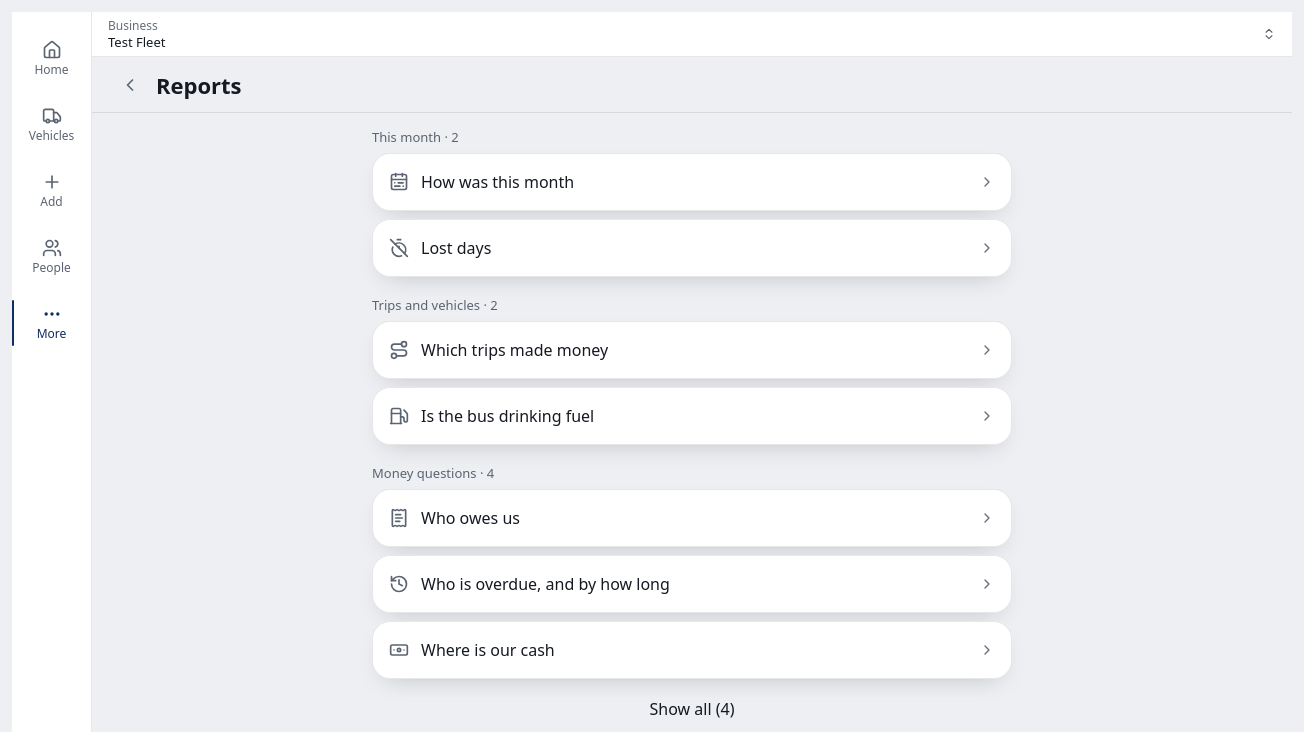
the catalogue renders the nine phase-1 cards, owner-only ones filtered for a plain manager
Expected: the text "How was this month" is shown, [421,170,574,194]
Click the button named "Back". click: (130, 84)
box: [108,62,152,106]
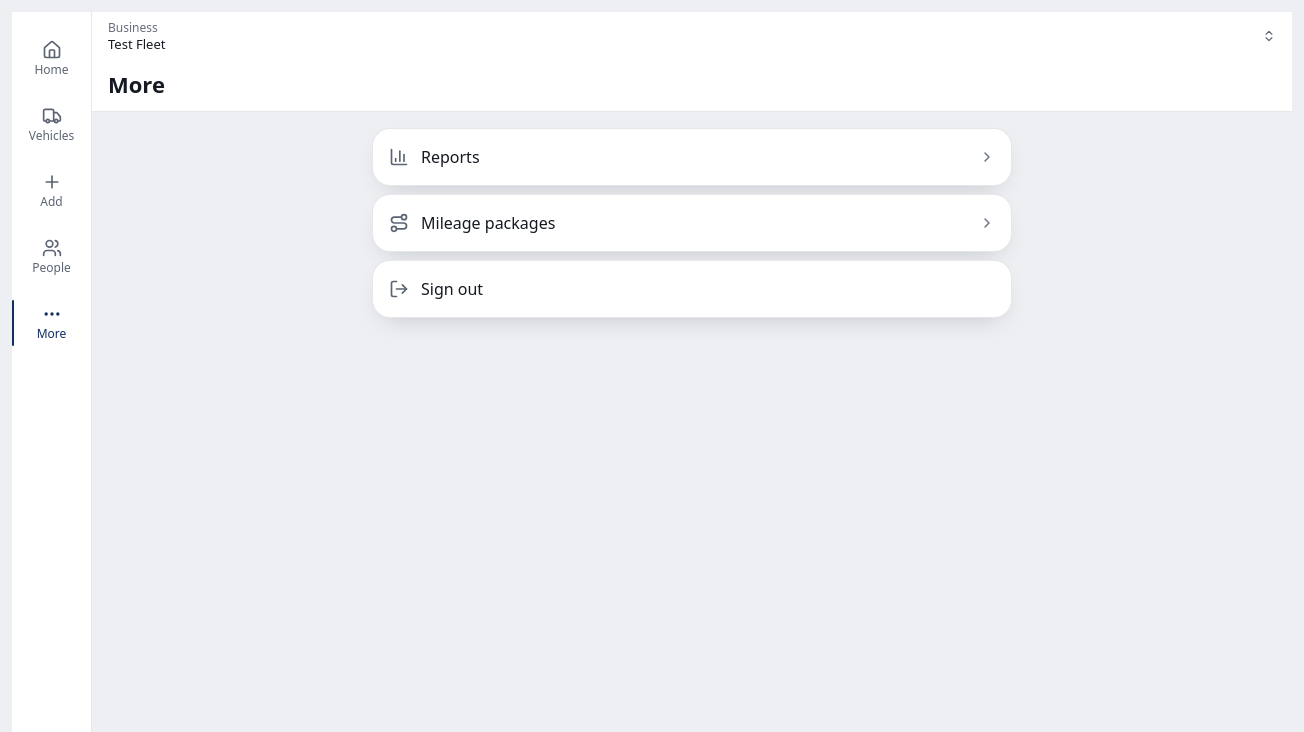
Click the button "Reports". click: (692, 157)
box: [372,128,1012,186]
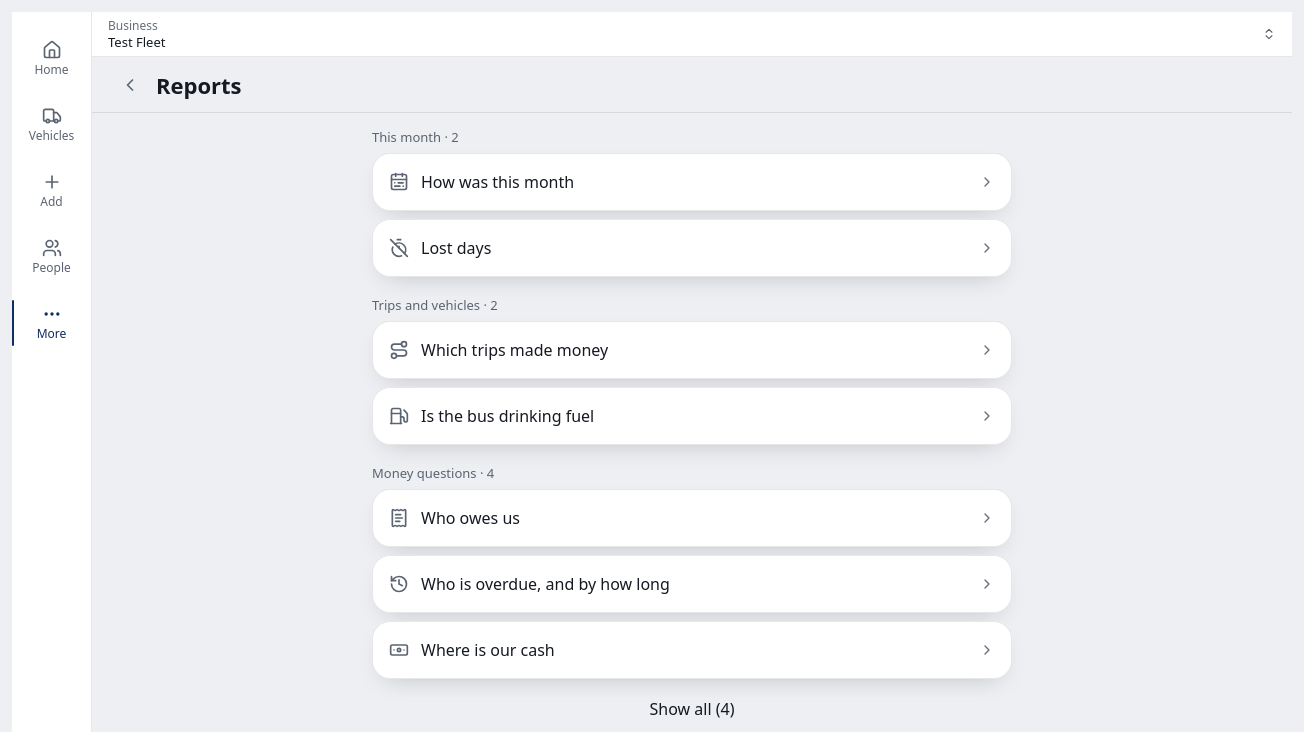
Result: the text "How was this month" is shown at [421,170,574,194]
Result: the text "Which trips made money" is shown at [421,338,608,362]
Result: the text "Is the bus drinking fuel" is shown at [421,404,594,428]
